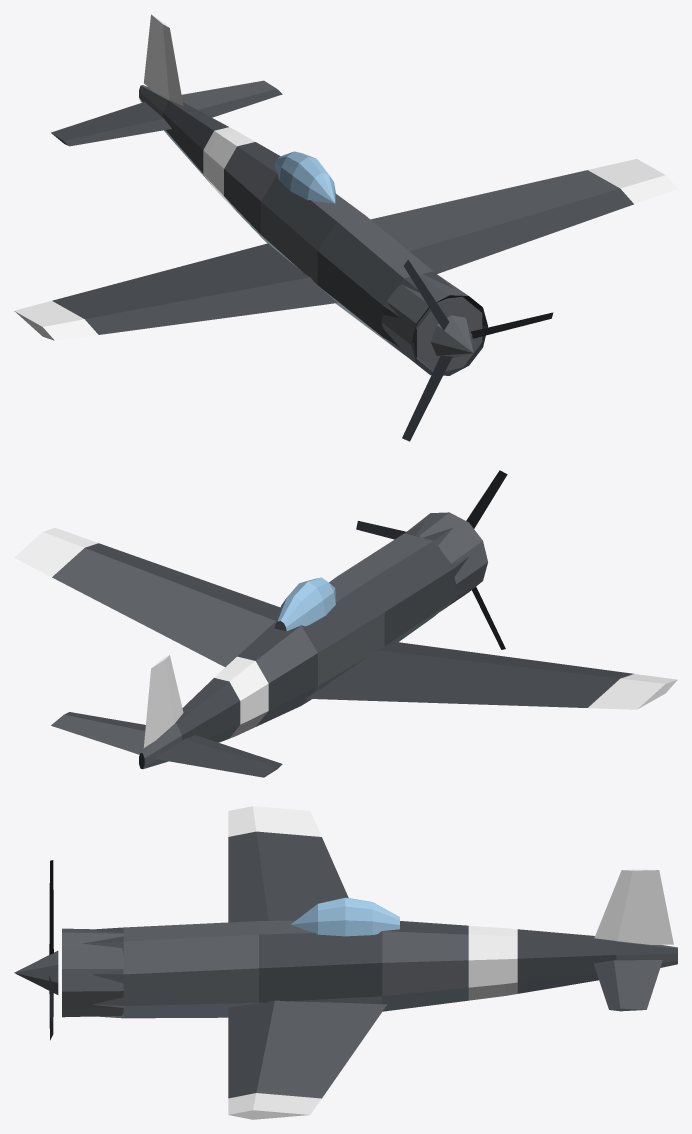
3 renders of one model, top to bottom at view 1: azimuth 30°, elevation 25°; view 2: azimuth 150°, elevation 25°; view 3: azimuth 270°, elevation 25°, orthographic.
Visible parts, largest first — view 1: body, prop; view 2: body, prop; view 3: body, prop.
Part boxes in pixels (bbox=[...]): body: bbox=[14, 14, 677, 375]; prop: bbox=[402, 259, 553, 441]; body: bbox=[14, 512, 677, 777]; prop: bbox=[356, 470, 507, 649]; body: bbox=[62, 806, 677, 1119]; prop: bbox=[14, 860, 58, 1040].
Size of the model in its own units: 10.51 by 3.12 by 9.7.
